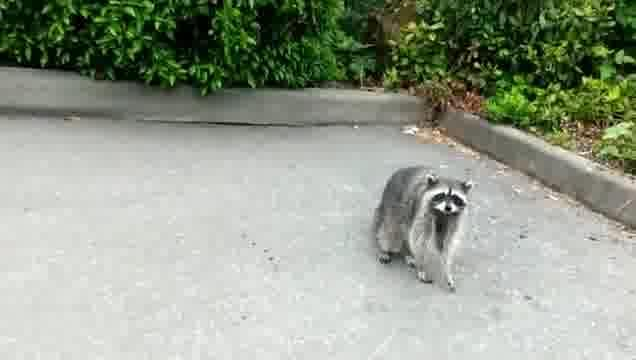raccoon: (373, 164, 476, 297)
